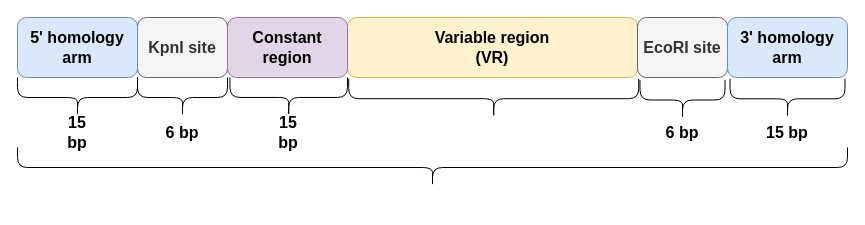
Some shapes in this 865 by 225 pixel diagram are drawn without their labels. The shapes that lost their labels are listed below. From the top down, each one's box as (x1, y1, x2, y2) in pixels, then its label:
(348, 78, 639, 119): 200 bp
(16, 146, 848, 188): 257 bp
